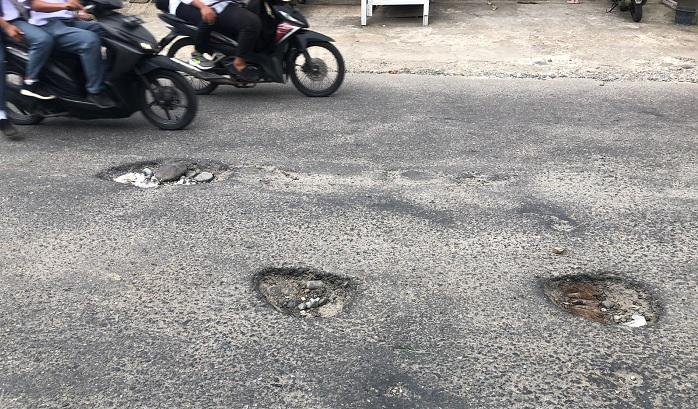Pothole: (528, 268, 680, 332), (243, 258, 360, 321), (91, 151, 239, 197)
